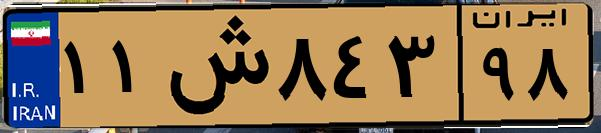1: (57, 26, 110, 100), (110, 28, 158, 98)
3: (385, 28, 445, 110)
4: (330, 28, 385, 110)
8: (270, 28, 330, 110), (525, 38, 570, 115)
9: (475, 38, 525, 113)
ش: (158, 12, 270, 120)
